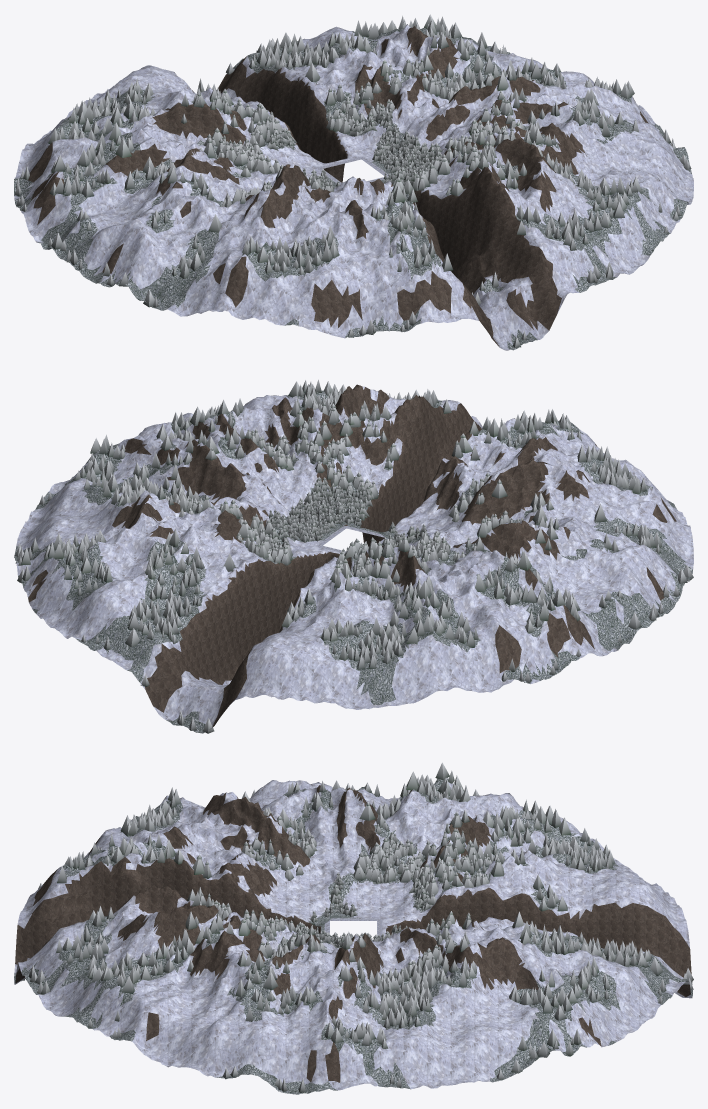
Rendered from backdrop_near_rect_ridge_winter.glb.
The picture shows the model from 3 angles, top to bottom: view 1: azimuth 30°, elevation 25°; view 2: azimuth 150°, elevation 25°; view 3: azimuth 270°, elevation 25°; orthographic projection.
Visible parts, largest first — view 1: near_land_S, near_land_W, near_land_E, near_land_N, trees_land_S_0, trees_land_W_0, trees_land_E_0, trees_land_N_0; view 2: near_land_N, near_land_W, near_land_E, near_land_S, trees_land_N_0, trees_land_E_0, trees_land_W_0, trees_land_S_0; view 3: near_land_E, near_land_S, near_land_N, near_land_W, trees_land_E_0, trees_land_N_0, trees_land_W_0, trees_land_S_0.
Part boxes in pixels (x1=…): near_land_S: x1=265, y1=126, x2=682, y2=350; near_land_W: x1=14, y1=102, x2=336, y2=319; near_land_E: x1=363, y1=26, x2=693, y2=217; near_land_N: x1=25, y1=24, x2=426, y2=182; trees_land_S_0: x1=275, y1=124, x2=678, y2=347; trees_land_W_0: x1=14, y1=91, x2=339, y2=307; trees_land_E_0: x1=372, y1=16, x2=691, y2=216; trees_land_N_0: x1=74, y1=14, x2=436, y2=150; near_land_N: x1=26, y1=508, x2=442, y2=733; near_land_W: x1=381, y1=460, x2=693, y2=692; near_land_E: x1=14, y1=395, x2=346, y2=591; near_land_S: x1=275, y1=384, x2=677, y2=546; trees_land_N_0: x1=53, y1=500, x2=424, y2=733; trees_land_E_0: x1=15, y1=397, x2=343, y2=583; trees_land_W_0: x1=382, y1=471, x2=693, y2=682; trees_land_S_0: x1=288, y1=379, x2=640, y2=532; near_land_E: x1=114, y1=915, x2=593, y2=1094; near_land_S: x1=14, y1=816, x2=332, y2=1039; near_land_N: x1=382, y1=818, x2=692, y2=1047; near_land_W: x1=139, y1=778, x2=592, y2=919; trees_land_E_0: x1=116, y1=910, x2=581, y2=1092; trees_land_N_0: x1=404, y1=810, x2=693, y2=1003; trees_land_W_0: x1=146, y1=762, x2=555, y2=917; trees_land_S_0: x1=15, y1=808, x2=319, y2=1038.
Bounding box in the file's own units: 577 × 168 × 577.
4 materials, 3 textured.
